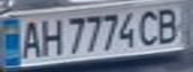4: (118, 8, 139, 50)
7: (81, 11, 103, 53), (63, 12, 84, 55), (100, 10, 121, 51)
A: (15, 16, 45, 58)
B: (154, 3, 184, 45)
C: (136, 7, 163, 47)
H: (36, 15, 63, 57)
